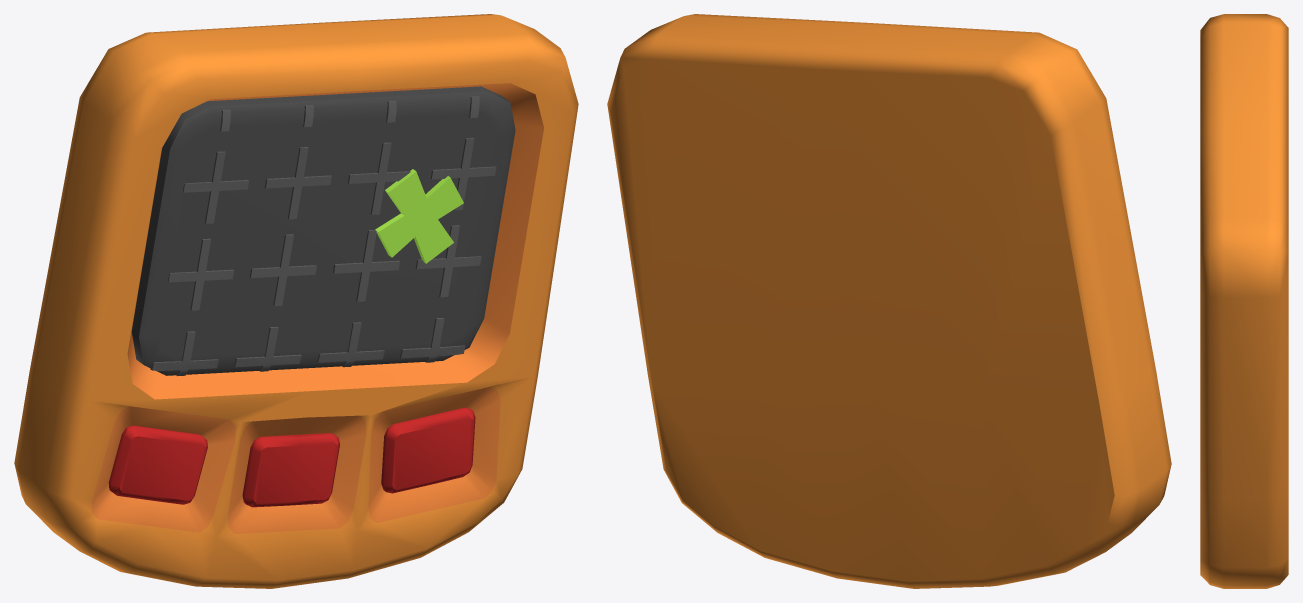
The picture shows the model from 3 angles, left to right: view 1: azimuth 30°, elevation 25°; view 2: azimuth 150°, elevation 25°; view 3: azimuth 270°, elevation 25°; orthographic projection. The views are drawn at different scales.
Visible parts, largest first — view 1: model_0.075; view 2: model_0.075; view 3: model_0.075.
Part boxes in pixels (bbox=[...]): model_0.075: bbox=[14, 14, 578, 588]; model_0.075: bbox=[607, 14, 1171, 588]; model_0.075: bbox=[1200, 14, 1288, 588].
Size of the model in its own units: 3.8 by 3.87 by 0.6623.
